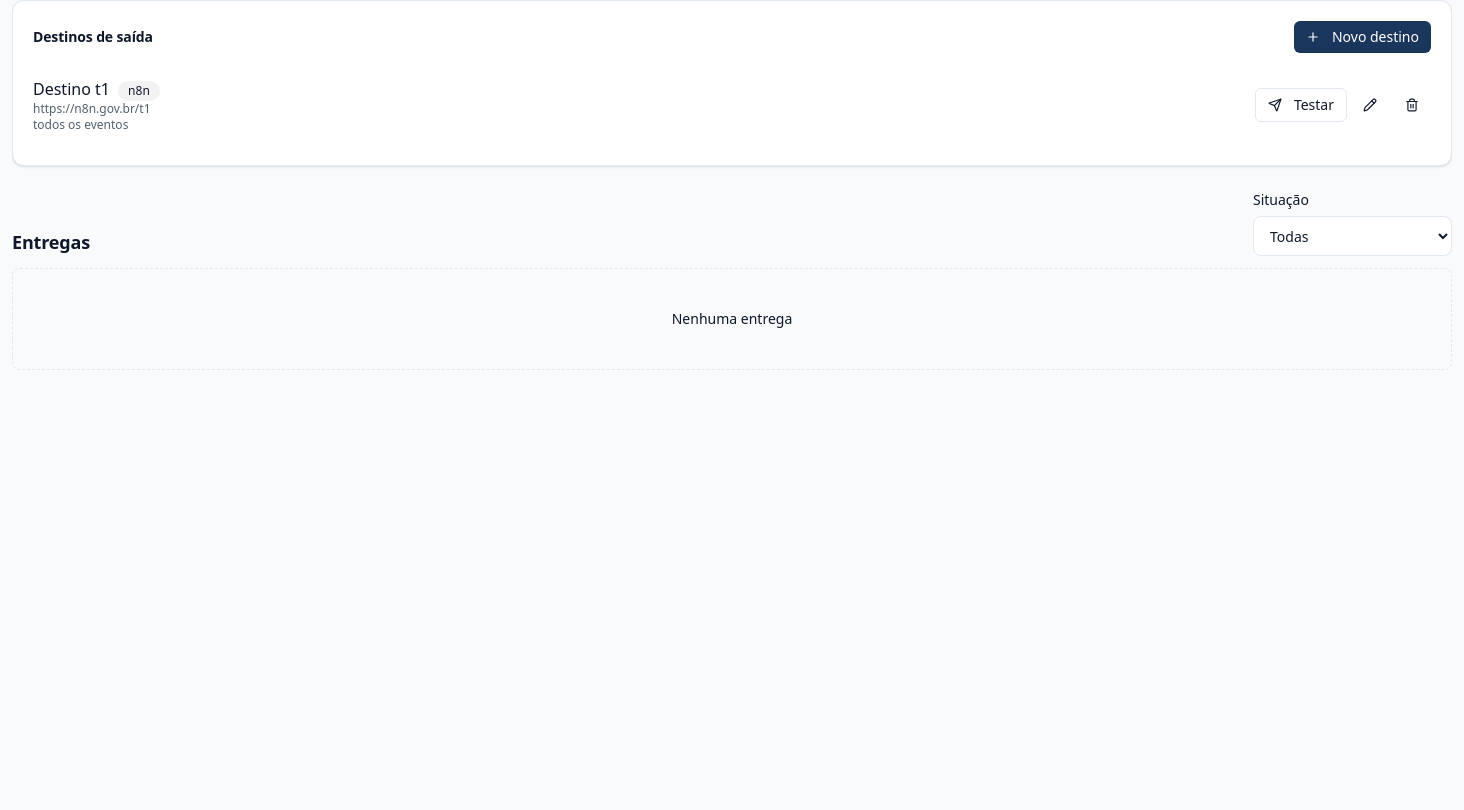
Test: Configurações > Egress › falha no teste sem mensagem mostra o código HTTP
The image size is (1464, 810).
Click the button "Testar": (1301, 105) [1255, 88, 1347, 122]
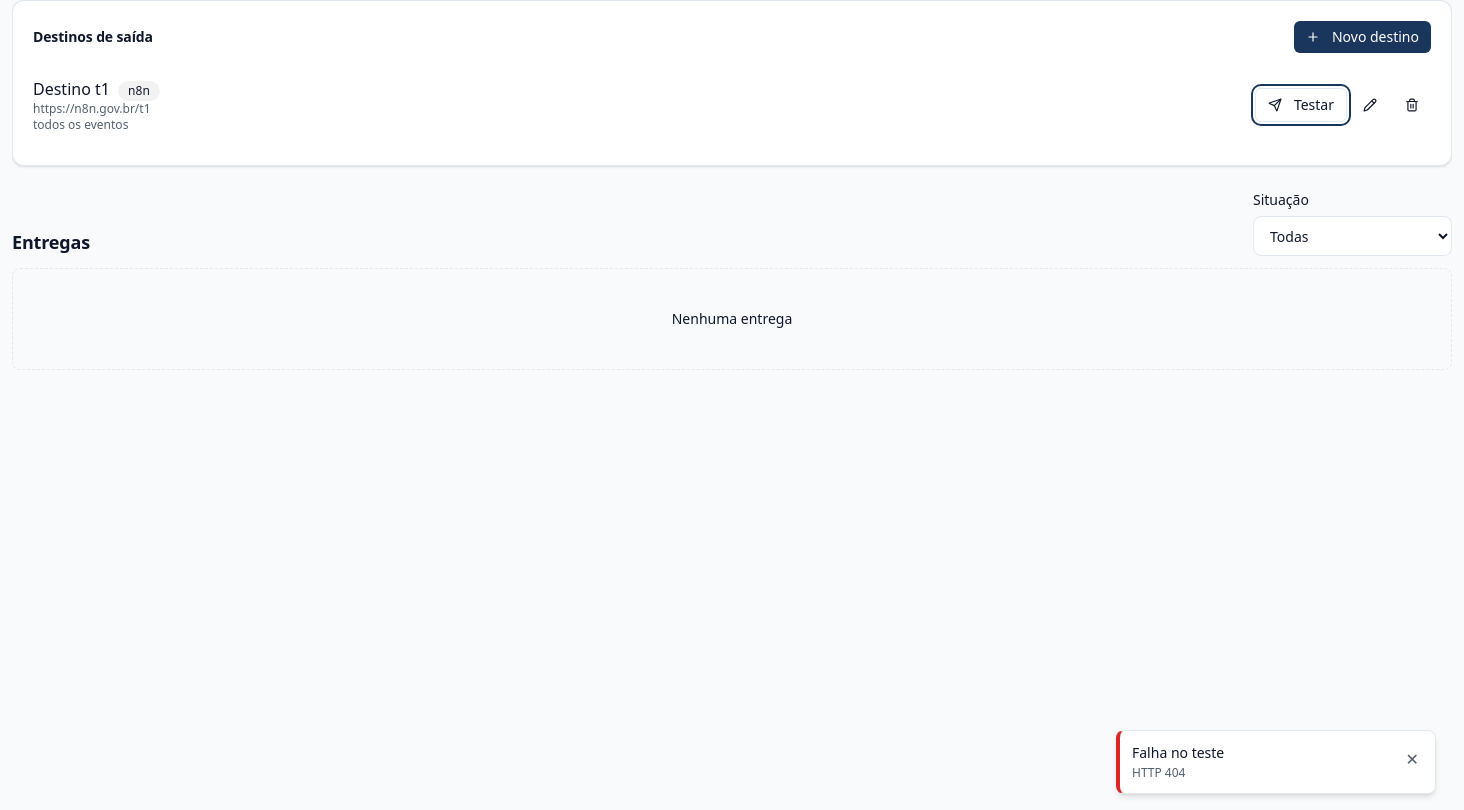
Check: the text "Nenhuma entrega" is shown, box [672, 309, 792, 329]
Check: the text "Falha no teste" is shown, box [1132, 743, 1224, 763]
Check: the text "HTTP 404" is shown, box [1132, 764, 1186, 781]
